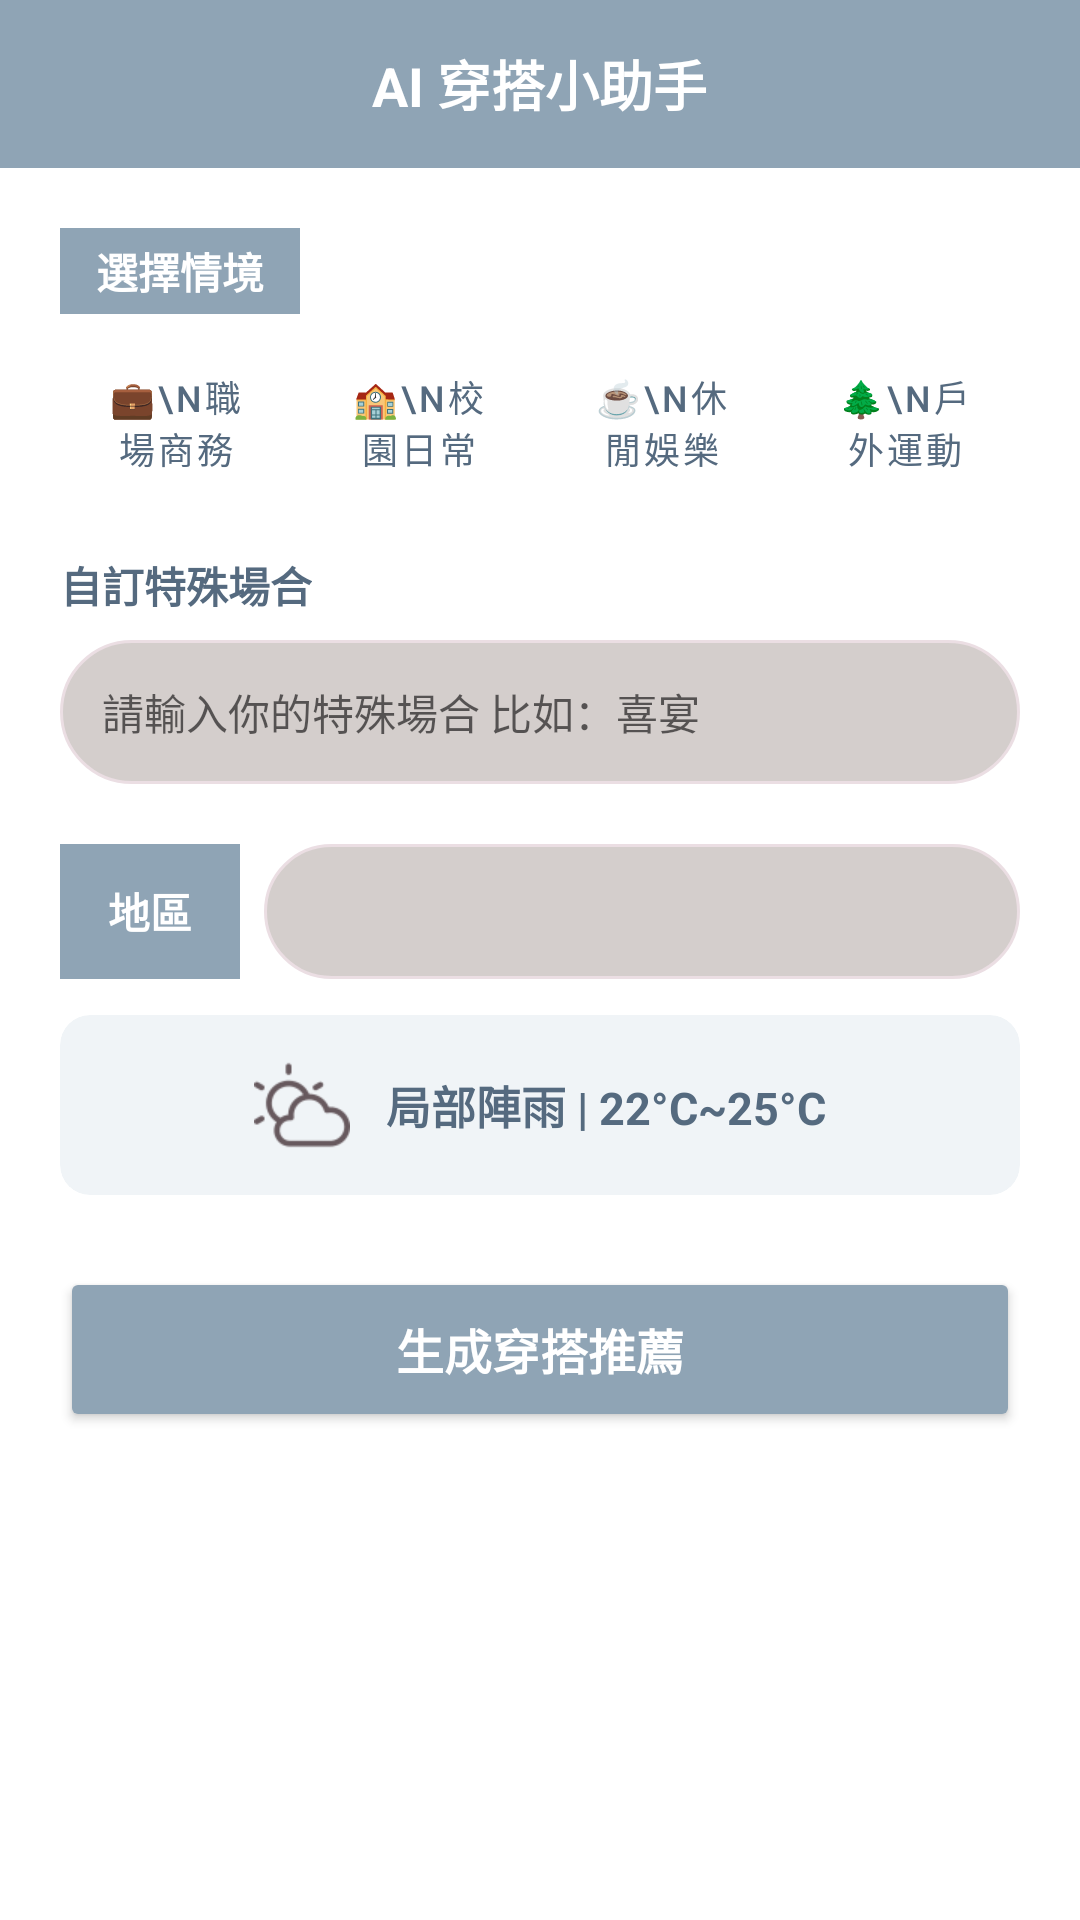

Named icons in this screenshot (1080px x 1920px) and their centers, point (x, y):
cloudy and sunny: point (302, 1105)
